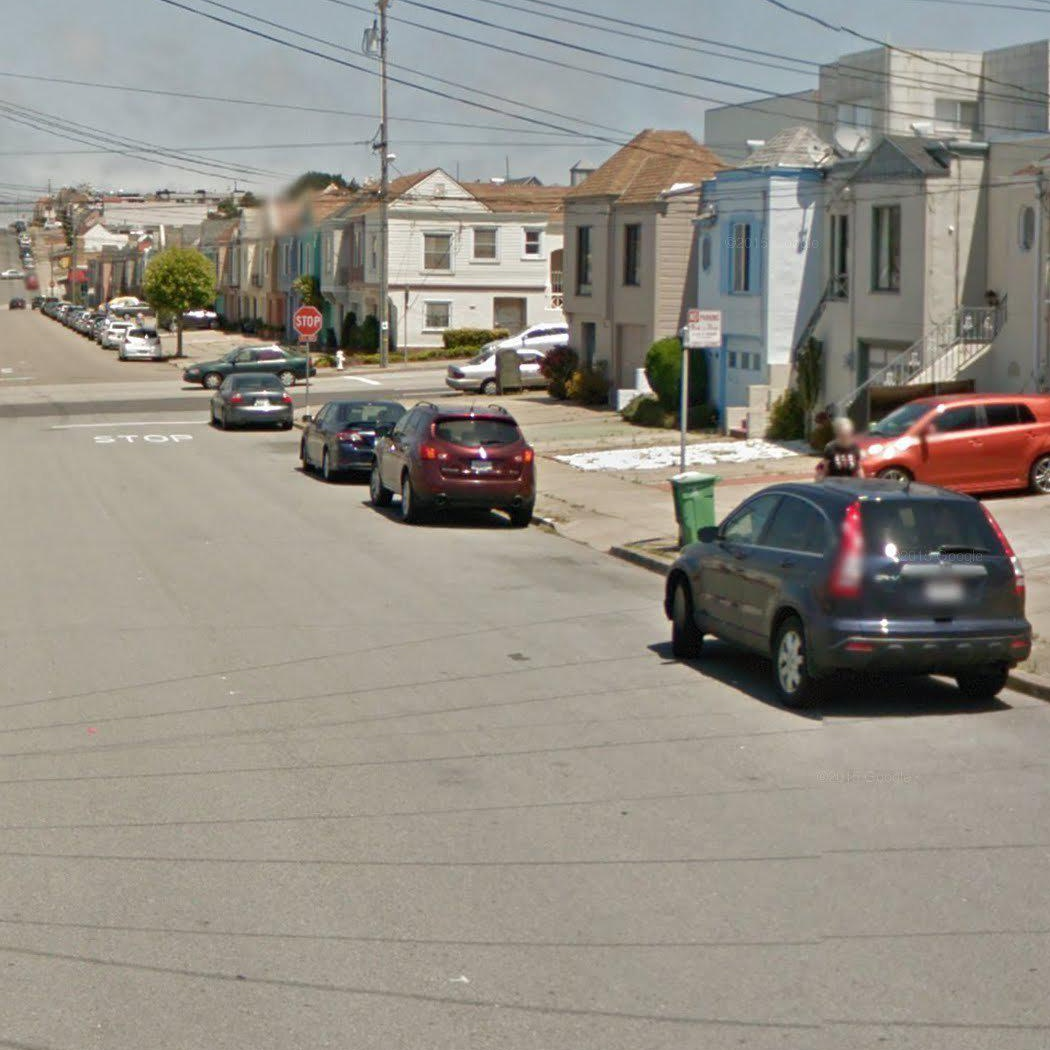No Parking: (685, 306, 723, 349)
